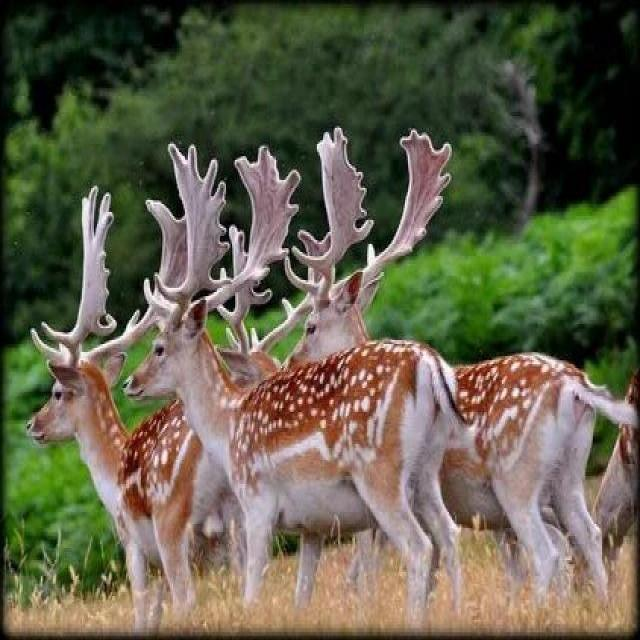deer: (154, 249, 460, 570)
